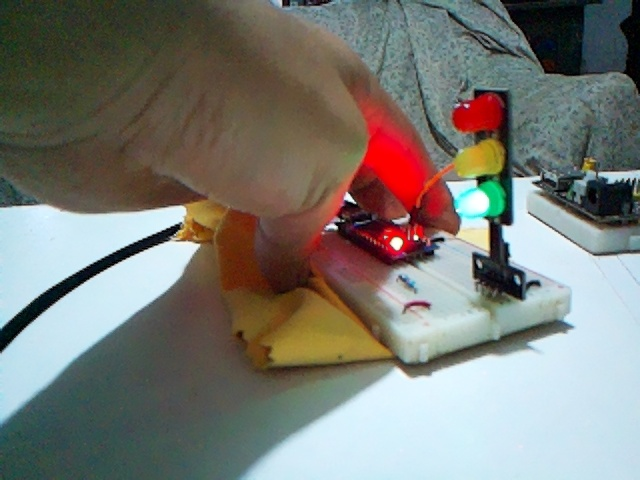traffic_light_green: (451, 91, 527, 300)
